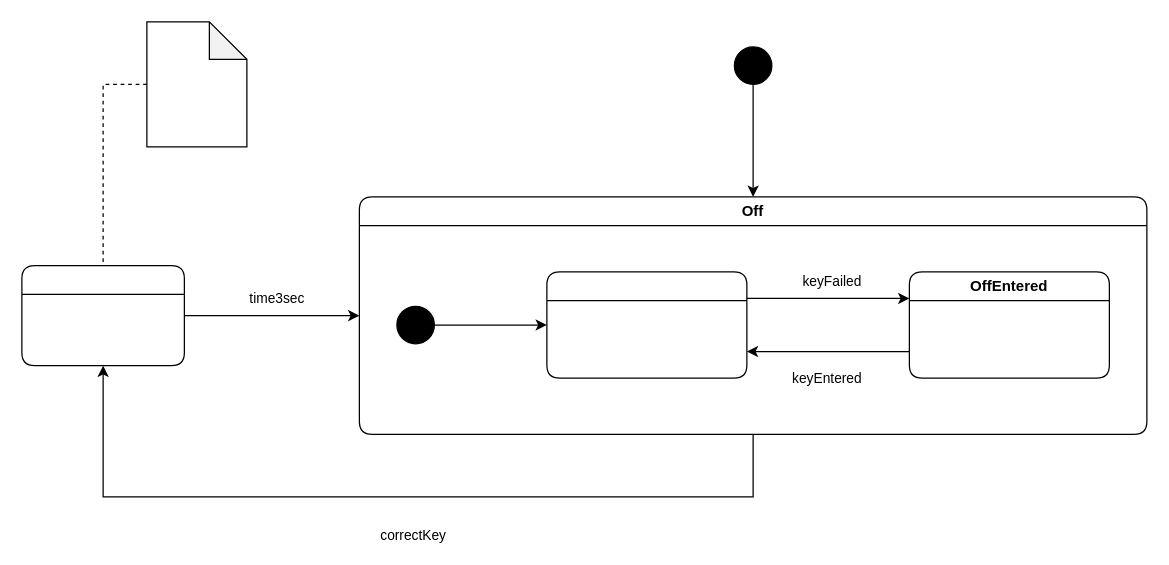
This 1169x565 diagram has some shape labels left out. The centre of each missing label's shape, as x and y in pixels:
"OffEmpty" belongs at (646,324).
"On" belongs at (102,315).
